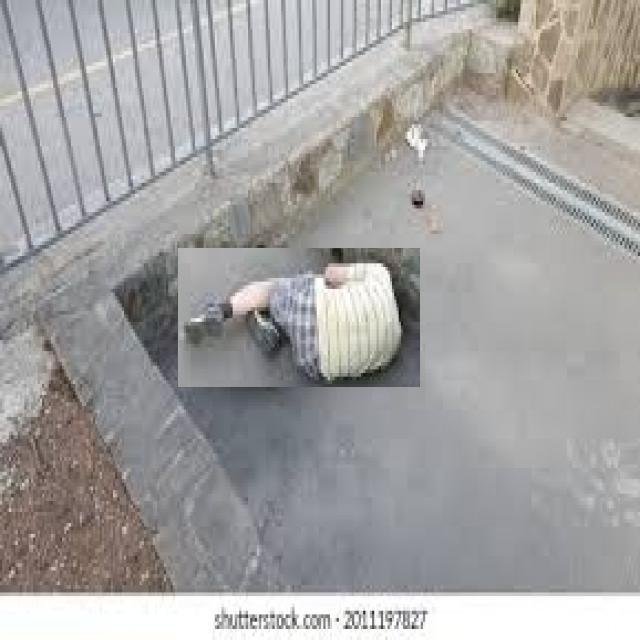Fall: (183, 253, 427, 385)
